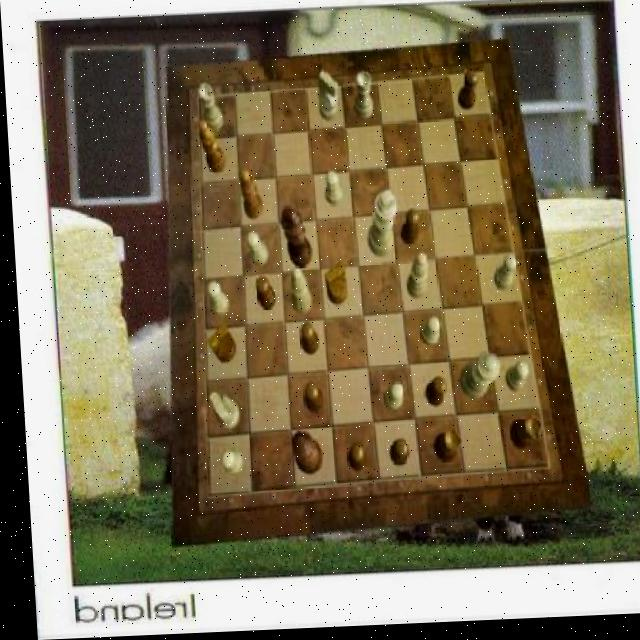bishop: (195, 122, 222, 176), (237, 171, 262, 223)
black-bishop: (277, 206, 310, 270)
black-king: (202, 326, 231, 366), (320, 264, 344, 307)
black-knight: (455, 74, 477, 114), (395, 214, 417, 249), (419, 381, 443, 411), (296, 325, 315, 360), (253, 279, 272, 313), (341, 445, 361, 475), (298, 385, 318, 415), (383, 442, 404, 469)
black-pawn: (285, 433, 317, 478)
black-queen: (503, 421, 537, 456), (427, 434, 456, 468)
black-rook: (400, 257, 425, 303), (286, 270, 308, 316)
white-bishop: (362, 193, 396, 260)
white-king: (204, 392, 236, 432), (316, 73, 339, 125)
white-knight: (488, 259, 514, 295), (498, 365, 524, 397), (202, 282, 225, 317), (244, 233, 265, 268), (321, 173, 340, 208), (214, 451, 238, 477), (415, 323, 437, 351), (379, 387, 400, 415)
white-pawn: (453, 357, 497, 405)
white-queen: (197, 83, 222, 133), (350, 75, 371, 123)
